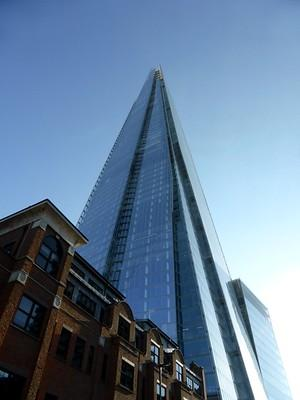building: (58, 64, 273, 400)
